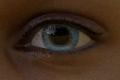eye: (42, 22, 80, 51)
